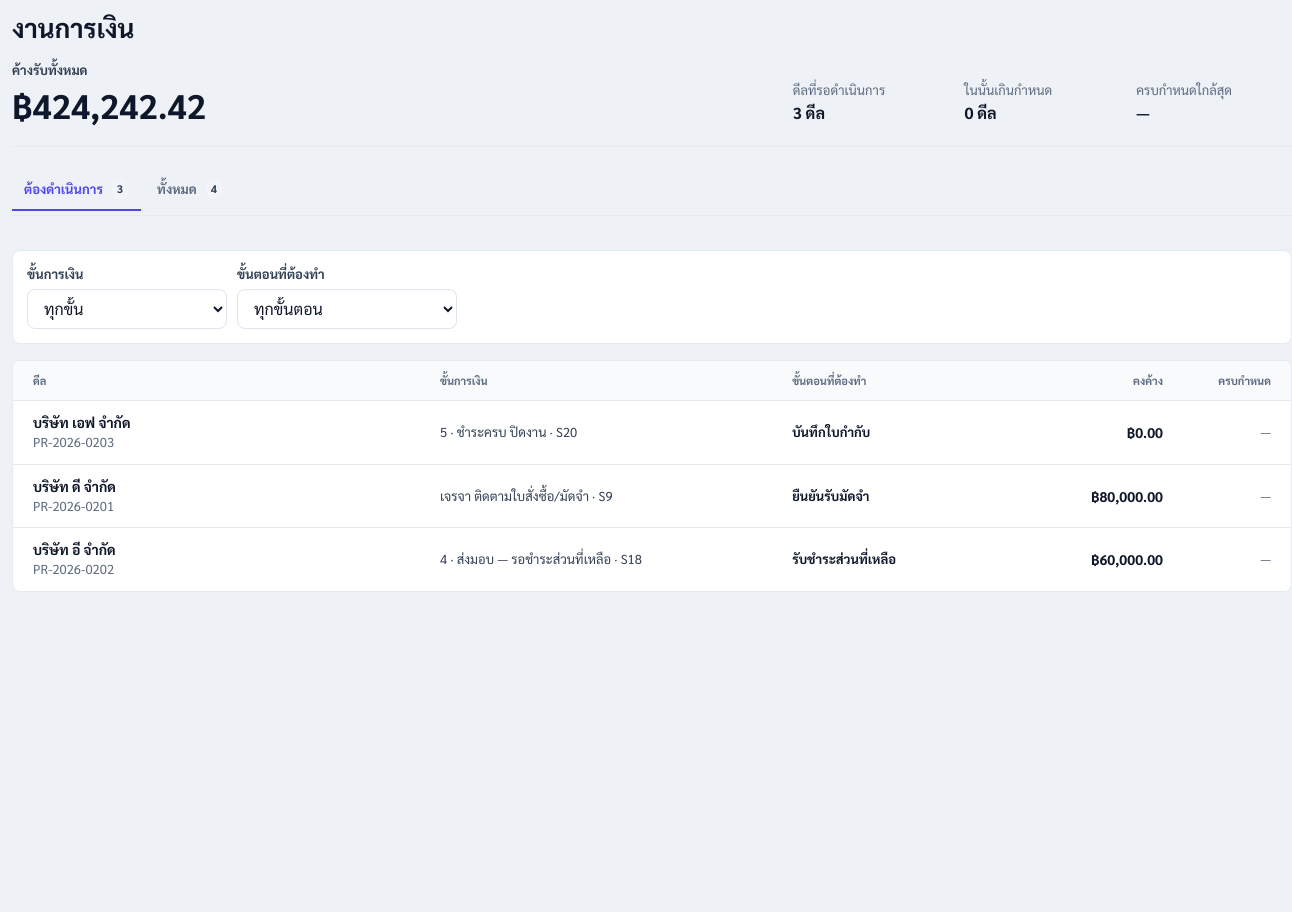
Test: AccountFinancePage (index-first worklist) › "ทั้งหมด" shows every row the account list returns, including history with no next action
The width and height of the screenshot is (1292, 912).
Expected: the text "บริษัท ดี จำกัด" is shown, [33,476,116,494]
Step 1. Click the tab "ทั้งหมด 4" → x=190, y=190, box [145,169,235,211]
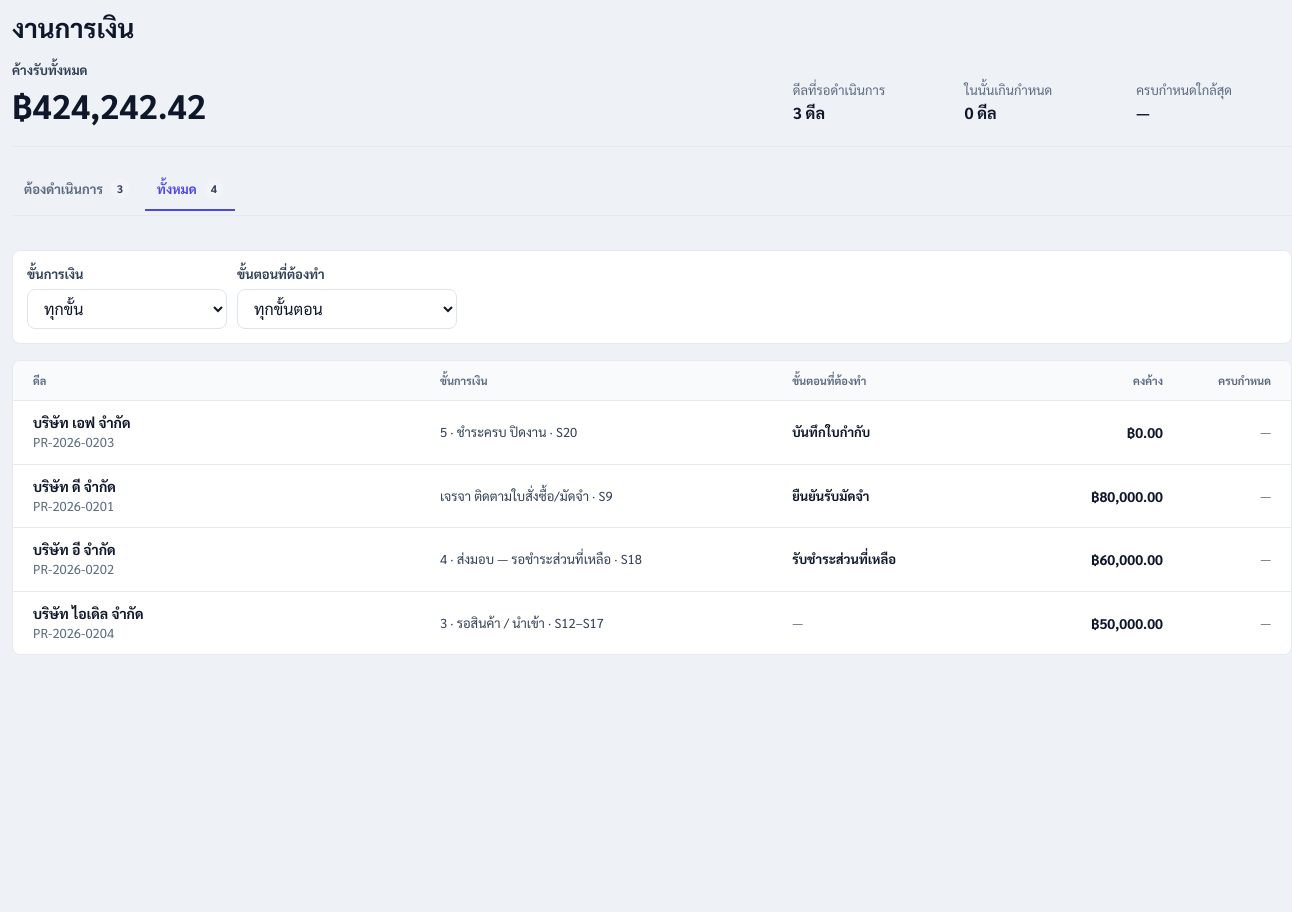
Expected: the text "บริษัท ดี จำกัด" is shown, [33,476,116,494]
Expected: the text "บริษัท ไอเดิล จำกัด" is shown, [33,604,144,622]
